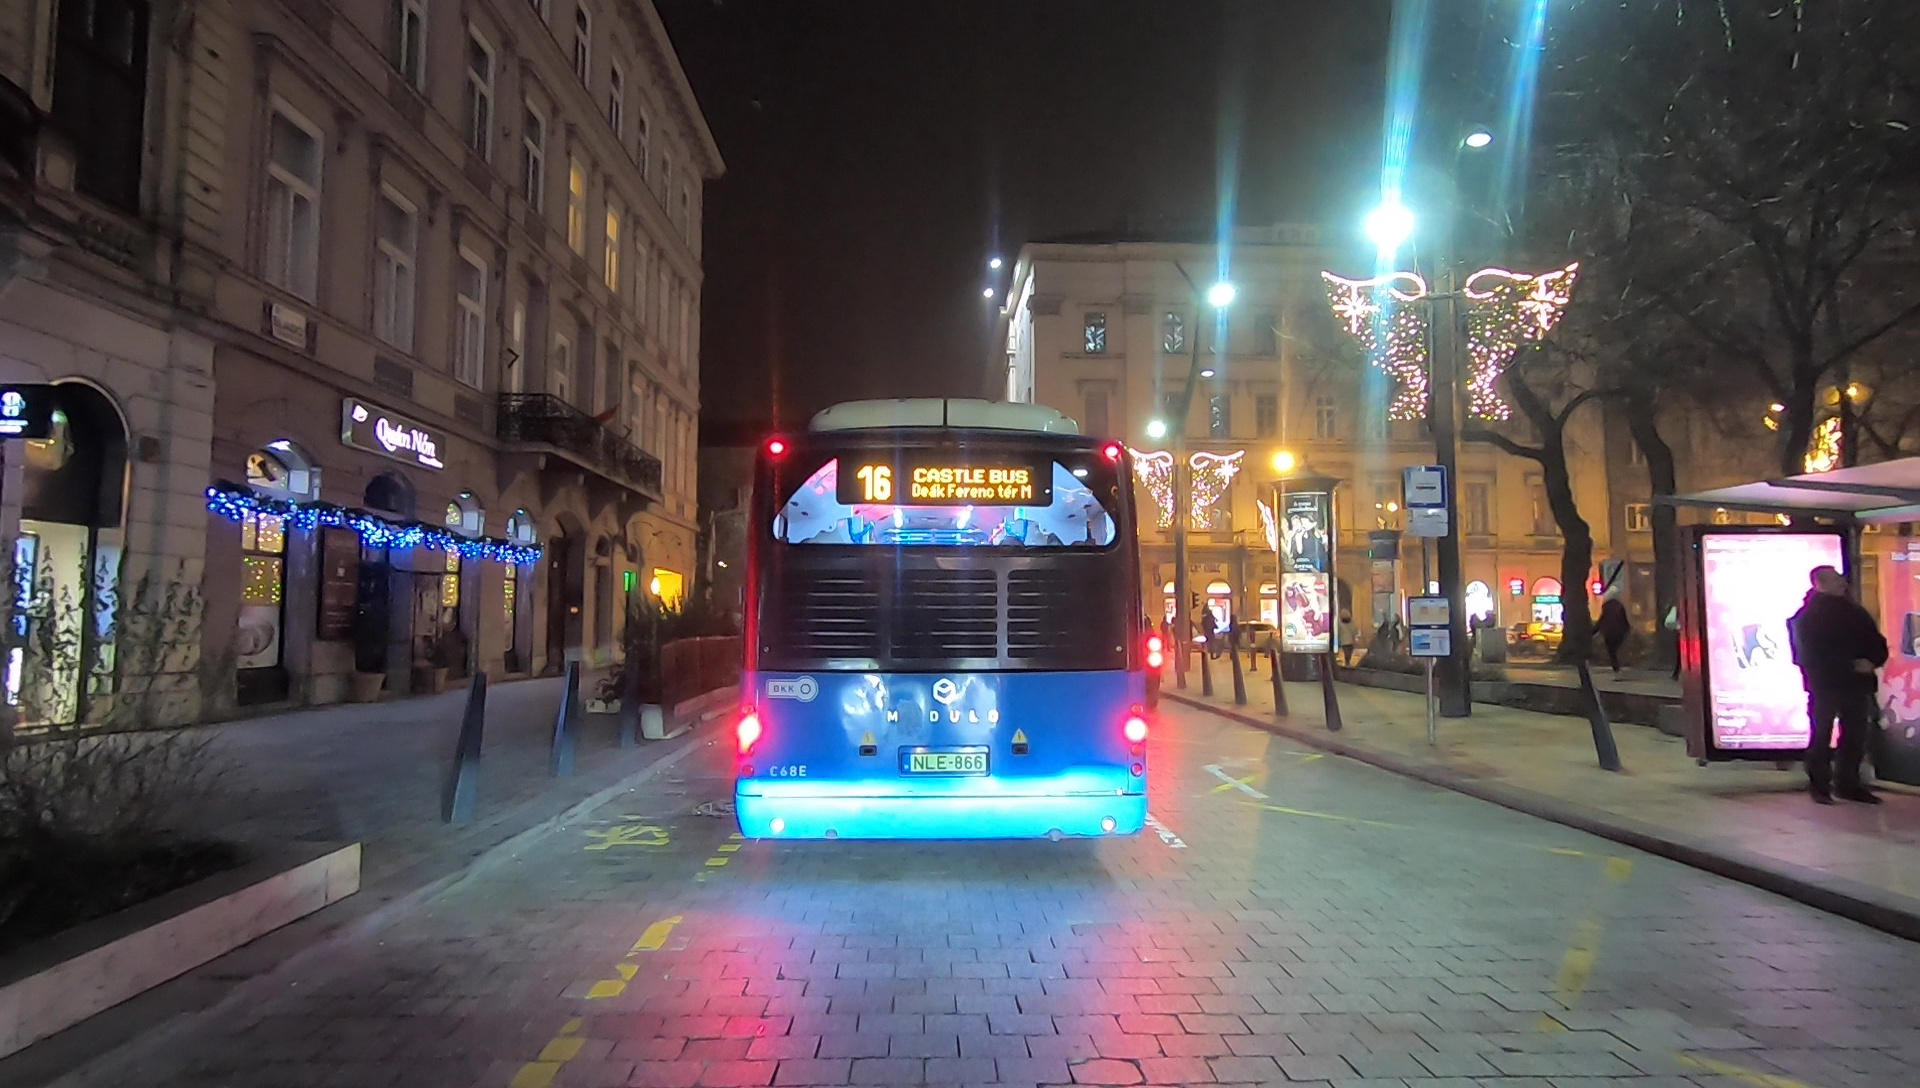person: (1788, 565, 1888, 806)
